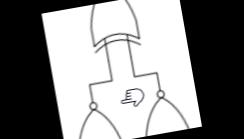xnor: (134, 80, 194, 137), (66, 93, 125, 139)
xor: (83, 0, 145, 55)
